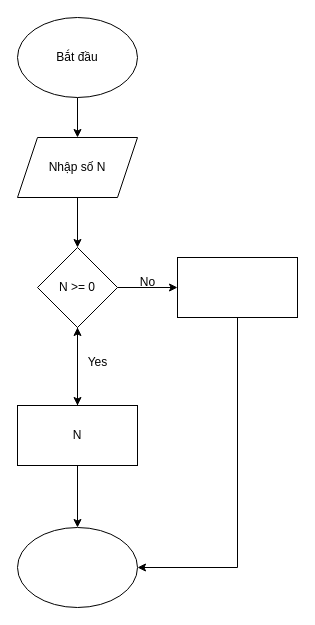
Some shapes in this 315 by 625 pixel diagram are drawn without their labels. The centre of each missing label's shape, as x and y in pixels:
Kết thúc: the point at 77,567
|-N|: the point at 237,287
